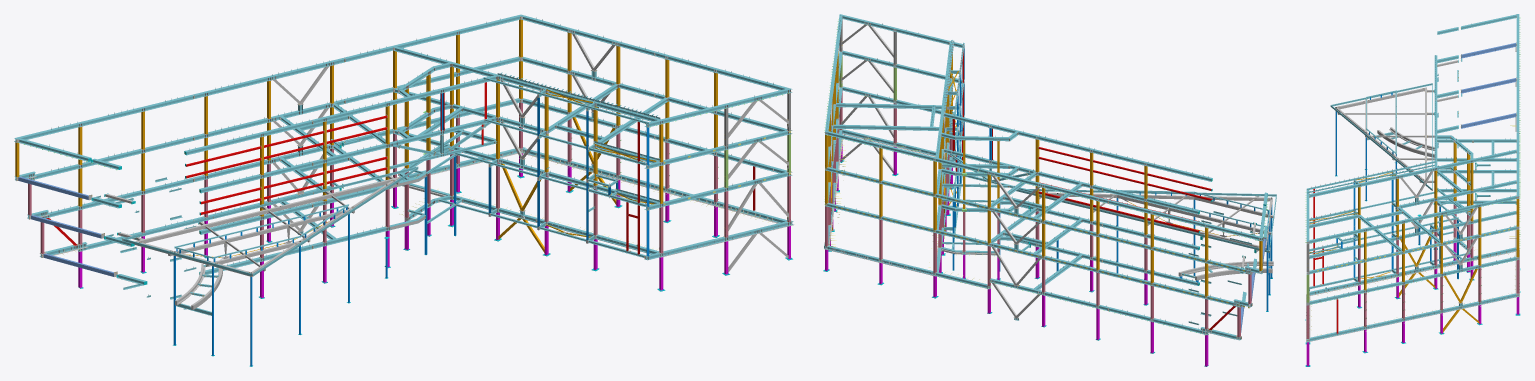
3 views of the same model, side by side, from view 1: azimuth 30°, elevation 25°; view 2: azimuth 150°, elevation 25°; view 3: azimuth 270°, elevation 25° (orthographic). The views are drawn at different scales.
Parts seen in each view (by area): view 1: 1MC6lx000JTp4qD3OmCJOv, 1MC6lx000JUp4qD3OmCJOv, 1M7XSg000KYp4qD3GuCZ0p, 1M0x2c0000z34qD3CmEJKu, 1M7XSg000fl34qD3GuCZ0p, 1M7XSg000IAZ4qD3GuCZ0o, 1L_fDA0002cJ4qD38rC30o, 1M0x2c0000gp4qD3CmEJCo, 1MCRrh000Pop4qD3OnCJ8n, 1M0x2c00008Z4qD3CmE3av, 1L_w8B0004bp4qD38rDp0p, 1M7XSg000Mvp4qD3GuCZ0p (+14 smaller); view 2: 1L_fDA0000wJ4qD38qEJCp, 1MC6lx000JTp4qD3OmCJOv, 1M0x2c0000z34qD3CmEJKu, 1M7XSg000KYp4qD3GuCZ0p, 1L_w8B0004d34qD38rDp0r, 1L_w8B0004fZ4qD38rDp0r, 1MC6lx000JUp4qD3OmCJOv, 1M7XSg000fl34qD3GuCZ0p, 1M7XSg000IAZ4qD3GuCZ0o, 1M7XSg000njJ4qD3GuCZ0p, 1M7XSg000Mvp4qD3GuCZ0p, 1M7XSg000Uu34qD3GuCZ0p (+13 smaller); view 3: 1L_w8B0004hZ4qD38rDp4n, 1L_w8B00092p4qD38rE30p, 1L_fDA0002fZ4qD38rC30p, 1MA7OD001dkZ4qD3KrCZCn, 1MA7OD001GXZ4qD3KrCZCm, 1L_w8B00095p4qD38rE30u, 1L_fDA0002Z34qD38rC30n, 1L_w8B00093p4qD38rE30s, 1MA7OD001U_Z4qD3KrCZCn, 1L_w8B00001p4qD38rDJKn, 1L_w8B00094p4qD38rE30u, 1MA7OD001MY34qD3KrCZCn (+18 smaller).
Boxes of the visible parts, x1=… form: 1MC6lx000JTp4qD3OmCJOv: x1=312, y1=75, x2=497, y2=124; 1MC6lx000JUp4qD3OmCJOv: x1=312, y1=117, x2=496, y2=165; 1M7XSg000KYp4qD3GuCZ0p: x1=14, y1=94, x2=193, y2=142; 1M0x2c0000z34qD3CmEJKu: x1=344, y1=14, x2=523, y2=61; 1M7XSg000fl34qD3GuCZ0p: x1=30, y1=136, x2=193, y2=179; 1M7XSg000IAZ4qD3GuCZ0o: x1=193, y1=58, x2=344, y2=98; 1L_fDA0002cJ4qD38rC30o: x1=644, y1=220, x2=793, y2=260; 1M0x2c0000gp4qD3CmEJCo: x1=644, y1=88, x2=792, y2=127; 1MCRrh000Pop4qD3OnCJ8n: x1=173, y1=208, x2=352, y2=253; 1M0x2c00008Z4qD3CmE3av: x1=644, y1=130, x2=792, y2=168; 1L_w8B0004bp4qD38rDp0p: x1=644, y1=172, x2=792, y2=210; 1M7XSg000Mvp4qD3GuCZ0p: x1=193, y1=99, x2=344, y2=140; 1L_fDA0000wJ4qD38qEJCp: x1=824, y1=244, x2=989, y2=288; 1MC6lx000JTp4qD3OmCJOv: x1=944, y1=112, x2=1102, y2=154; 1M0x2c0000z34qD3CmEJKu: x1=825, y1=130, x2=978, y2=171; 1M7XSg000KYp4qD3GuCZ0p: x1=1108, y1=200, x2=1262, y2=240; 1L_w8B0004d34qD38rDp0r: x1=825, y1=203, x2=978, y2=243; 1L_w8B0004fZ4qD38rDp0r: x1=825, y1=167, x2=978, y2=207; 1MC6lx000JUp4qD3OmCJOv: x1=944, y1=148, x2=1102, y2=190; 1M7XSg000fl34qD3GuCZ0p: x1=1108, y1=235, x2=1250, y2=274; 1M7XSg000IAZ4qD3GuCZ0o: x1=978, y1=168, x2=1108, y2=203; 1M7XSg000njJ4qD3GuCZ0p: x1=1108, y1=271, x2=1241, y2=307; 1M7XSg000Mvp4qD3GuCZ0p: x1=978, y1=204, x2=1108, y2=239; 1M7XSg000Uu34qD3GuCZ0p: x1=978, y1=239, x2=1108, y2=274; 1L_w8B0004hZ4qD38rDp4n: x1=1396, y1=149, x2=1516, y2=178; 1L_w8B00092p4qD38rE30p: x1=1397, y1=180, x2=1516, y2=208; 1L_fDA0002fZ4qD38rC30p: x1=1413, y1=293, x2=1516, y2=318; 1MA7OD001dkZ4qD3KrCZCn: x1=1309, y1=316, x2=1413, y2=341; 1MA7OD001GXZ4qD3KrCZCm: x1=1309, y1=218, x2=1412, y2=243; 1L_w8B00095p4qD38rE30u: x1=1413, y1=195, x2=1516, y2=220; 1L_fDA0002Z34qD38rC30n: x1=1405, y1=247, x2=1516, y2=274; 1L_w8B00093p4qD38rE30s: x1=1413, y1=257, x2=1516, y2=282; 1MA7OD001U_Z4qD3KrCZCn: x1=1309, y1=279, x2=1412, y2=304; 1L_w8B00001p4qD38rDJKn: x1=1396, y1=211, x2=1516, y2=239; 1L_w8B00094p4qD38rE30u: x1=1413, y1=226, x2=1516, y2=251; 1MA7OD001MY34qD3KrCZCn: x1=1309, y1=248, x2=1412, y2=273.
Size of the model in its own units: 60.57 by 15.8 by 24.08.
